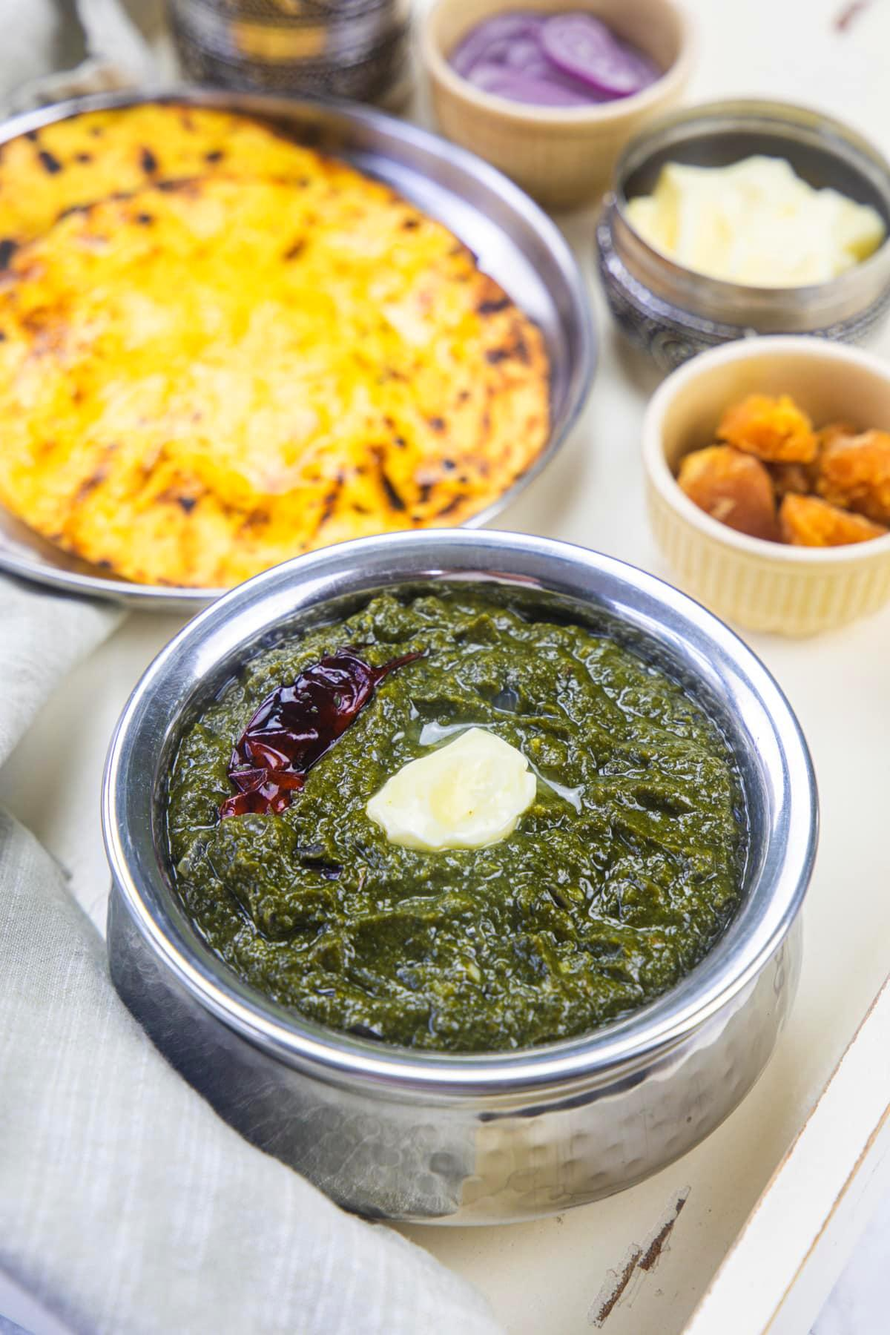saag: (158, 584, 752, 1059)
